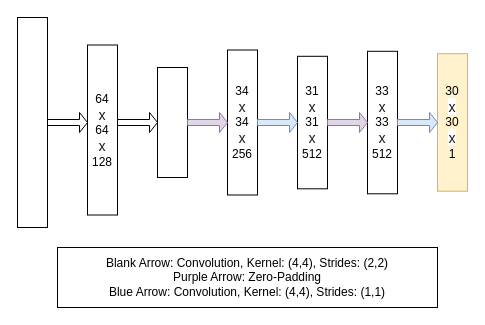
Image size: 485x325. Some labels were removed from this diagram. The shapes that lost their labels are listed below. From the top down, each one's centre as x and y in pixels, then its label:
point 32,122: 128 x 128 x 64
point 172,122: 32 x 32 x 256
